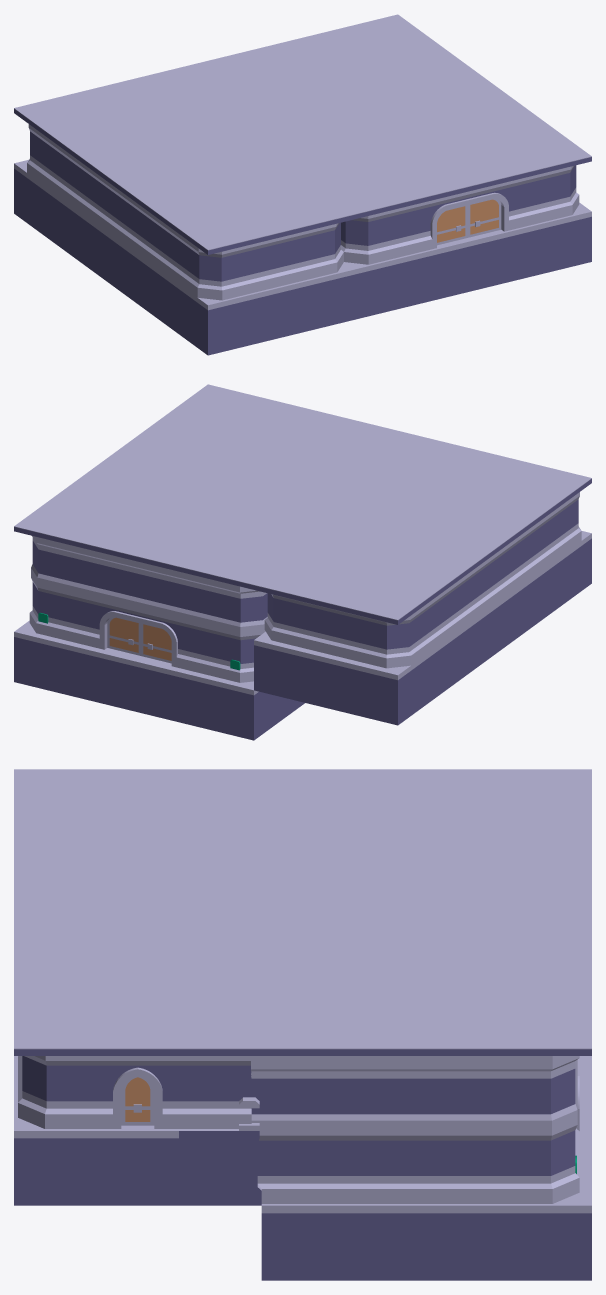
Rendered from DevDungeon.glb.
3 views of the same model, one above another, from view 1: azimuth 30°, elevation 25°; view 2: azimuth 150°, elevation 25°; view 3: azimuth 270°, elevation 25° (orthographic). The views are drawn at different scales.
Visible parts, largest first — view 1: Roof, Floor, Walls, Doors; view 2: Roof, Walls, Floor, Doors; view 3: Roof, Walls, Floor, Doors.
Part boxes in pixels (x1=…): Roof: x1=14, y1=14, x2=591, y2=254; Floor: x1=14, y1=159, x2=591, y2=355; Walls: x1=27, y1=124, x2=579, y2=300; Doors: x1=437, y1=199, x2=501, y2=245; Roof: x1=14, y1=384, x2=591, y2=624; Walls: x1=29, y1=492, x2=581, y2=682; Floor: x1=14, y1=531, x2=591, y2=740; Doors: x1=107, y1=617, x2=171, y2=663; Roof: x1=14, y1=769, x2=591, y2=1055; Walls: x1=18, y1=1056, x2=579, y2=1203; Floor: x1=14, y1=1056, x2=591, y2=1280; Doors: x1=121, y1=1077, x2=154, y2=1125.
Size of the model in its own units: 8 by 3.1 by 7.
